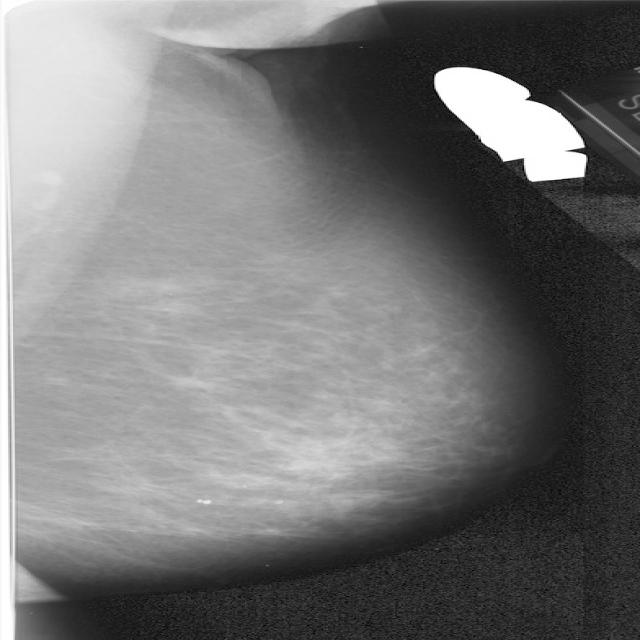tumour: (162, 373, 217, 393)
